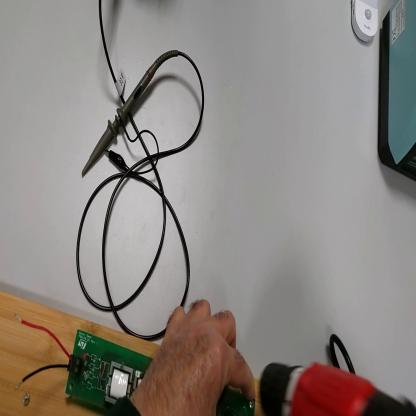electric screwdriver: (254, 362, 416, 415)
hand: (142, 299, 257, 414)
high voltage board: (17, 313, 258, 416)
oscilloscope probe tip: (83, 54, 162, 177)
welder station: (380, 1, 415, 182)
working area: (1, 291, 161, 416)
